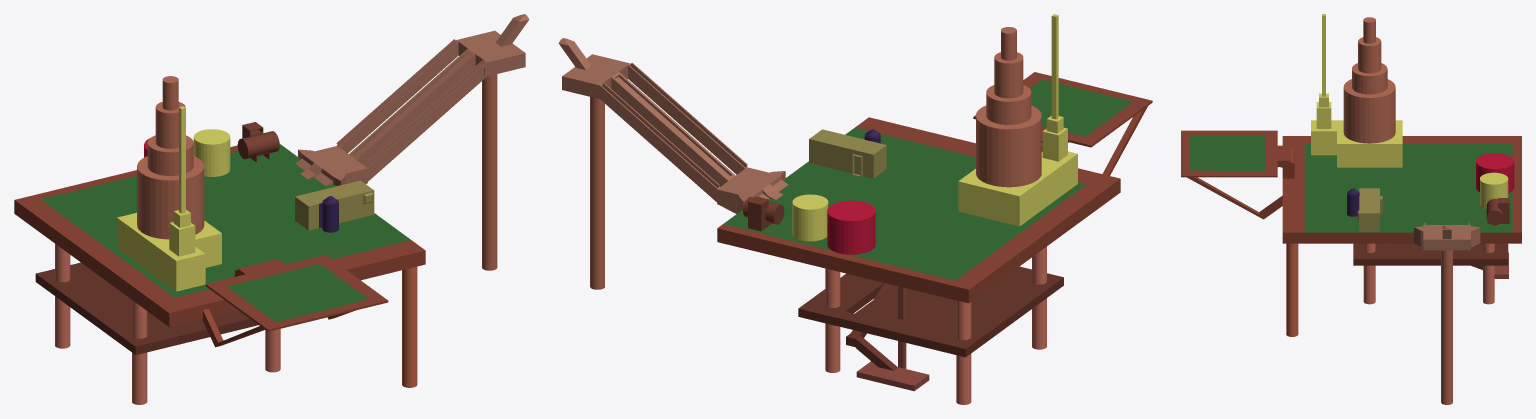
The model's file is oilrigblend.fbx.
3 renders of one model, left to right at view 1: azimuth 30°, elevation 25°; view 2: azimuth 150°, elevation 25°; view 3: azimuth 270°, elevation 25°, orthographic. The views are drawn at different scales.
Visible parts, largest first — view 1: Cube.002, Cube.003, Cylinder.004, Cube.001, Cube.005, Cylinder.002, Cylinder.003, Cube.004, Cylinder, Cylinder.001; view 2: Cube.002, Cube.001, Cube.003, Cylinder.004, Cube.005, Cylinder.002, Cube.004, Cylinder.003, Cube, Cylinder.001; view 3: Cube.002, Cylinder.004, Cube.005, Cube.001, Cylinder.003, Cube.003, Cube.004, Cylinder.002, Cylinder, Cylinder.001.
Part boxes in pixels (bbox=[...]): Cube.002: bbox=[14, 129, 425, 347]; Cube.003: bbox=[295, 14, 529, 185]; Cylinder.004: bbox=[137, 76, 204, 239]; Cube.001: bbox=[35, 262, 258, 354]; Cube.005: bbox=[117, 106, 221, 291]; Cylinder.002: bbox=[55, 244, 280, 404]; Cylinder.003: bbox=[482, 74, 497, 270]; Cube.004: bbox=[295, 180, 374, 232]; Cylinder: bbox=[402, 266, 417, 387]; Cylinder.001: bbox=[237, 122, 279, 162]; Cube.002: bbox=[717, 72, 1152, 303]; Cube.001: bbox=[798, 266, 1063, 370]; Cube.003: bbox=[558, 38, 788, 213]; Cylinder.004: bbox=[976, 27, 1041, 187]; Cube.005: bbox=[958, 14, 1077, 226]; Cylinder.002: bbox=[825, 246, 1046, 404]; Cube.004: bbox=[809, 129, 886, 178]; Cylinder.003: bbox=[590, 97, 604, 289]; Cube: bbox=[856, 286, 929, 391]; Cylinder.001: bbox=[743, 196, 784, 231]; Cube.002: bbox=[1181, 130, 1521, 243]; Cylinder.004: bbox=[1343, 17, 1395, 143]; Cube.005: bbox=[1311, 14, 1402, 167]; Cube.001: bbox=[1353, 243, 1508, 269]; Cylinder.003: bbox=[1441, 250, 1452, 404]; Cube.003: bbox=[1414, 222, 1480, 250]; Cube.004: bbox=[1347, 188, 1382, 231]; Cylinder.002: bbox=[1363, 243, 1494, 304]; Cylinder: bbox=[1286, 243, 1298, 336]; Cylinder.001: bbox=[1486, 198, 1509, 225].
Bounding box in the file's own units: 6954 × 4508 × 5723.
